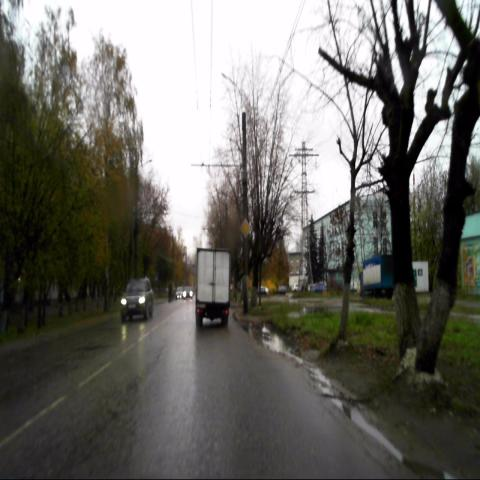2_1: (238, 216, 252, 238)
